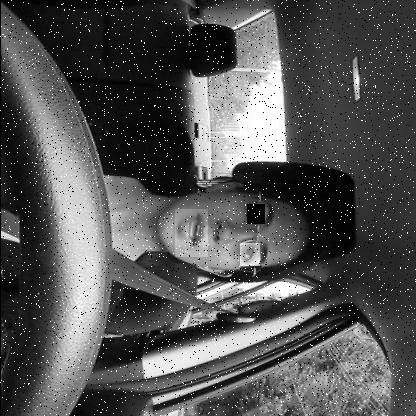seatbelt: (0, 167, 343, 297)
